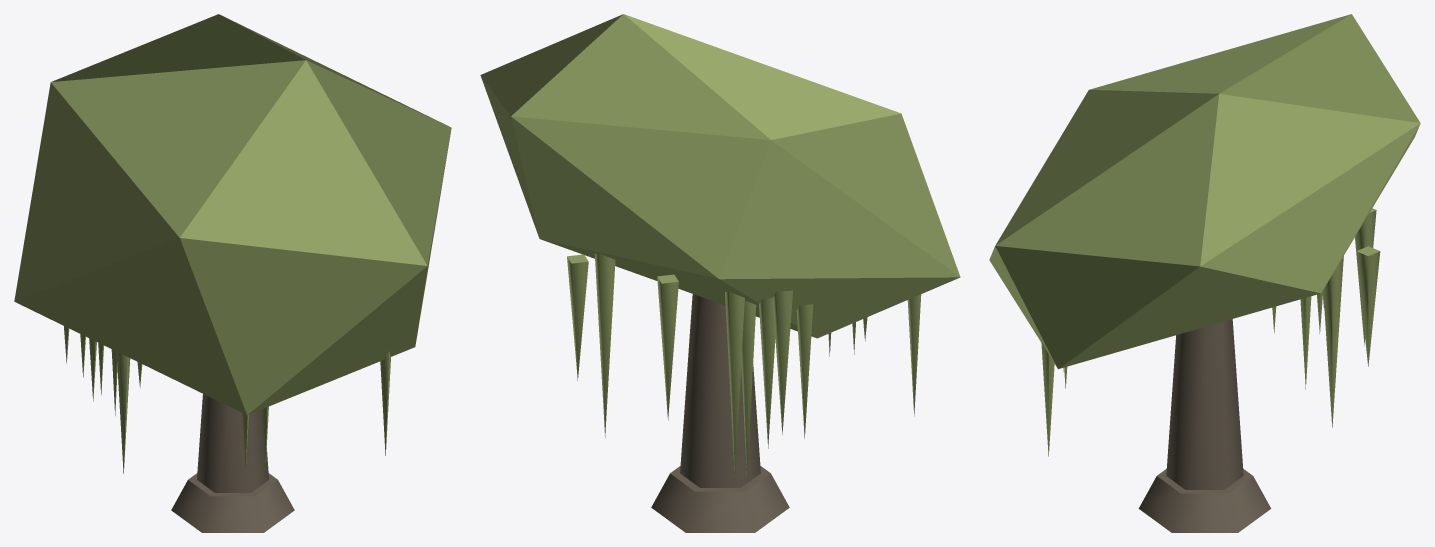
Rendered from tree_willow_1.glb.
The picture shows the model from 3 angles, left to right: view 1: azimuth 30°, elevation 25°; view 2: azimuth 150°, elevation 25°; view 3: azimuth 270°, elevation 25°; orthographic projection. The views are drawn at different scales.
Visible parts, largest first — view 1: tree_willow_1; view 2: tree_willow_1; view 3: tree_willow_1.
Boxes of the visible parts, x1,y1,x2,y2 form: tree_willow_1: [14, 14, 451, 532]; tree_willow_1: [480, 14, 960, 532]; tree_willow_1: [989, 14, 1420, 532].
Size of the model in its own units: 4.44 by 4.18 by 3.58.
